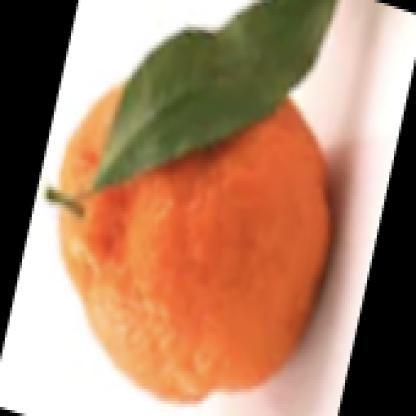fresh: (57, 64, 331, 401)
